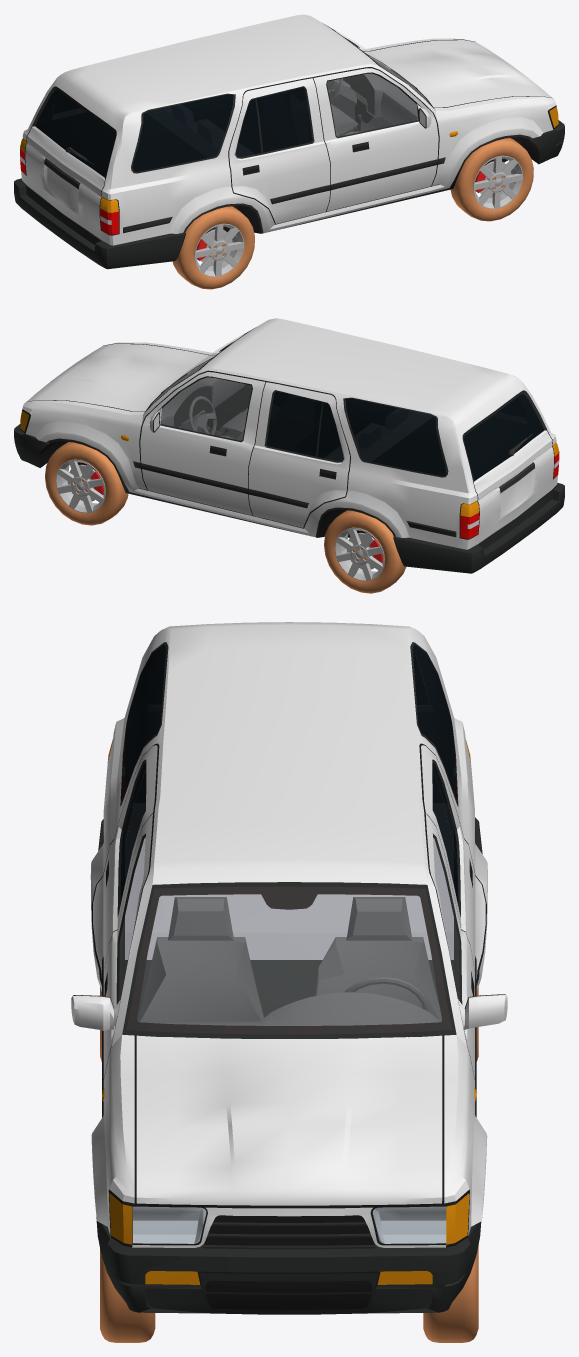
The model's file is SUV30.obj.
The picture shows the model from 3 angles, top to bottom: view 1: azimuth 30°, elevation 25°; view 2: azimuth 150°, elevation 25°; view 3: azimuth 270°, elevation 25°; orthographic projection. The views are drawn at different scales.
Parts seen in each view (by area): view 1: 30; view 2: 30; view 3: 30.
Boxes of the visible parts, box(x1,y1,x2,y2) form: 30: box(14, 14, 564, 289); 30: box(14, 318, 564, 593); 30: box(71, 622, 507, 1342).
Size of the model in its own units: 4.03 by 1.51 by 1.62.
